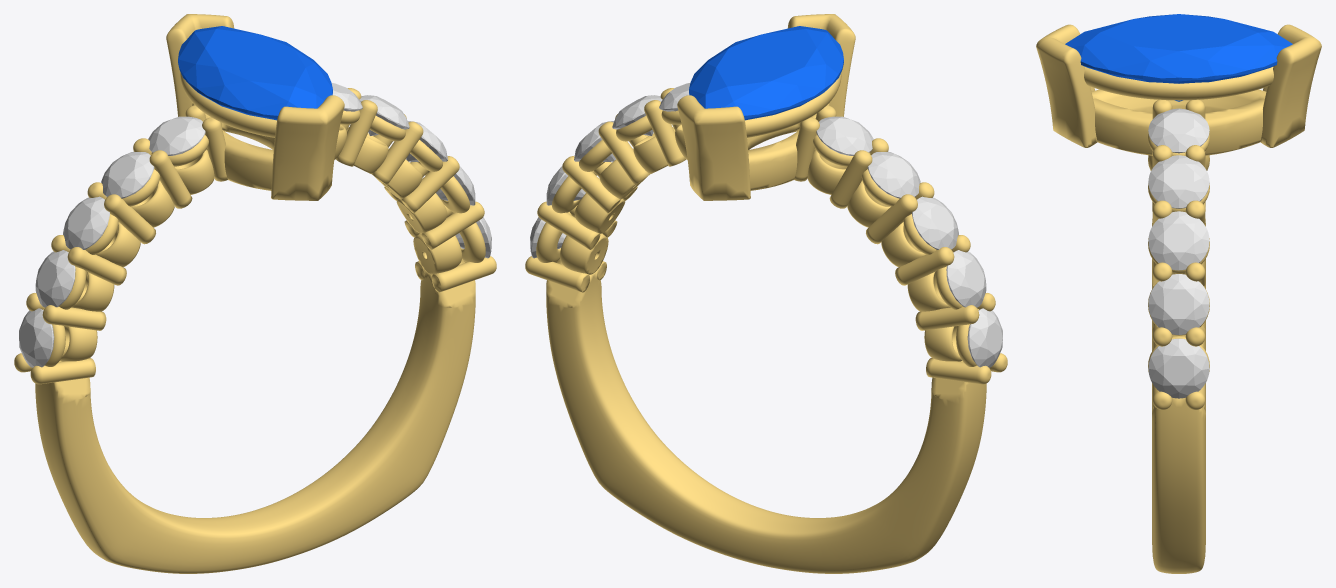
The model's file is bluesapphire-marquise-yellowgold-protectededges2prongs-europeanshank-11stone.glb.
The picture shows the model from 3 angles, left to right: view 1: azimuth 30°, elevation 25°; view 2: azimuth 150°, elevation 25°; view 3: azimuth 270°, elevation 25°; orthographic projection.
Visible parts, largest first — view 1: metal, stone, side.002, side.003, side.001, side.004, side, side.008; view 2: metal, stone, side.002, side.003, side.001, side.004, side, side.008; view 3: metal, stone, side.006, side.005, side.007, side.008, side.009.
Part boxes in pixels (left/top/right/bottom): metal: left=14, top=14, right=496, bottom=573; stone: left=178, top=26, right=332, bottom=120; side.002: left=63, top=196, right=109, bottom=249; side.003: left=101, top=151, right=154, bottom=198; side.001: left=35, top=250, right=75, bottom=307; side.004: left=148, top=116, right=205, bottom=155; side: left=19, top=308, right=54, bottom=367; side.008: left=359, top=95, right=409, bottom=135; metal: left=525, top=14, right=1007, bottom=573; stone: left=689, top=26, right=843, bottom=120; side.002: left=912, top=196, right=958, bottom=249; side.003: left=867, top=151, right=920, bottom=198; side.001: left=946, top=250, right=986, bottom=307; side.004: left=816, top=116, right=873, bottom=155; side: left=967, top=308, right=1002, bottom=367; side.008: left=612, top=95, right=662, bottom=135; metal: left=1036, top=24, right=1321, bottom=573; stone: left=1065, top=14, right=1292, bottom=101; side.006: left=1148, top=274, right=1209, bottom=334; side.005: left=1148, top=338, right=1209, bottom=398; side.007: left=1148, top=211, right=1209, bottom=270; side.008: left=1148, top=155, right=1209, bottom=208; side.009: left=1148, top=108, right=1209, bottom=153.
Size of the model in its own units: 21.97 by 22.73 by 11.69.
